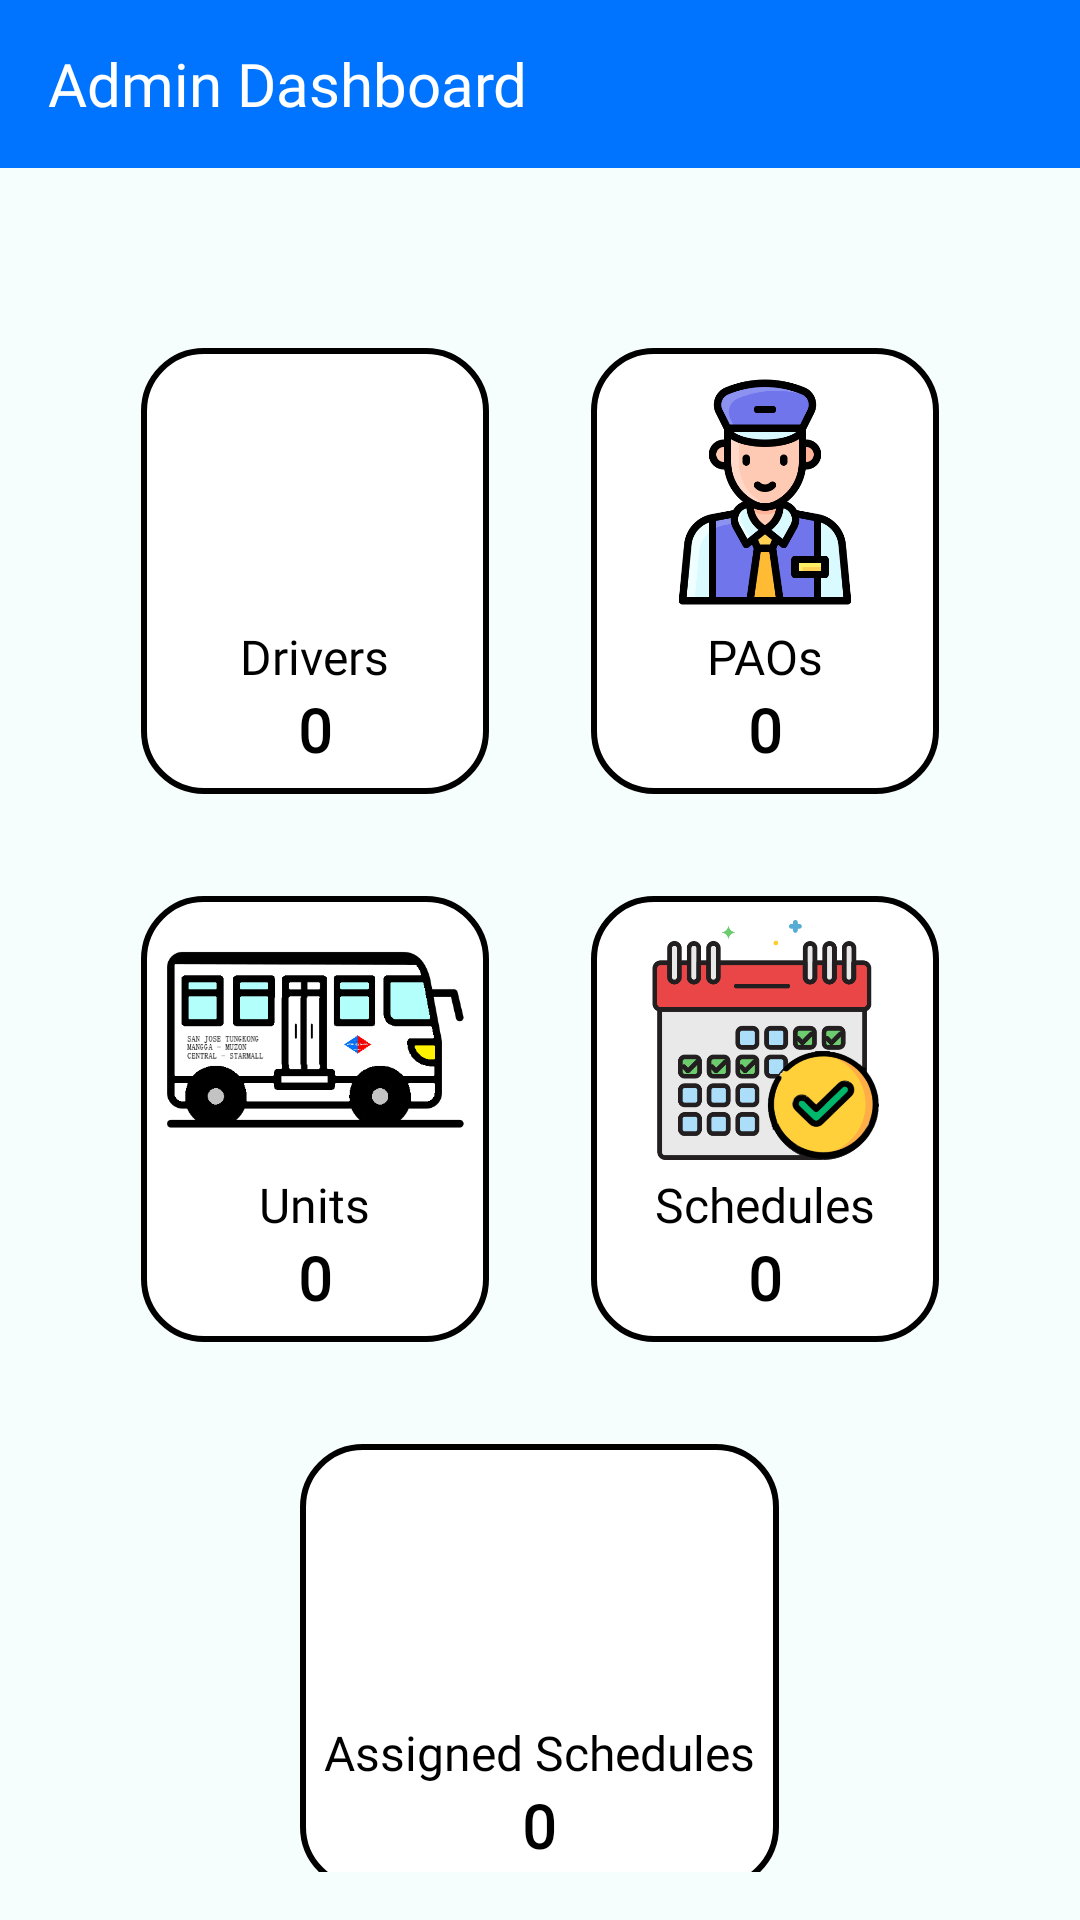

Screen size 1080×1920. Icon name, then its center in pixels as (x=x, y=y):
mjeep: (x=315, y=1040)
